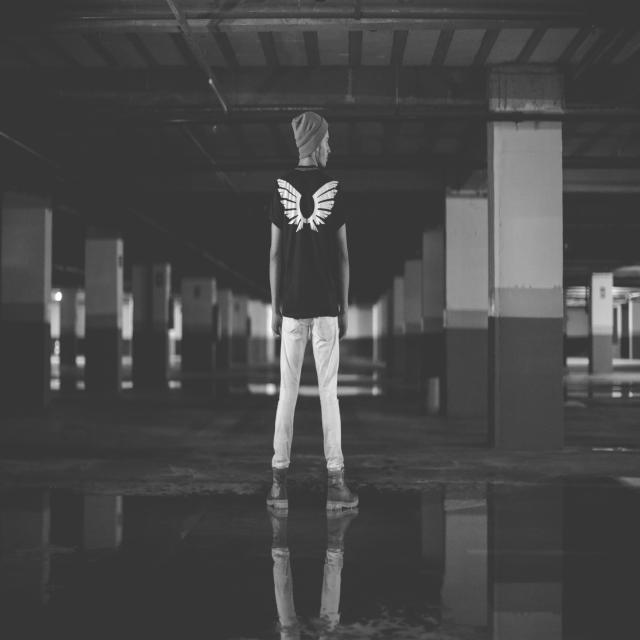standing: (261, 106, 363, 519)
